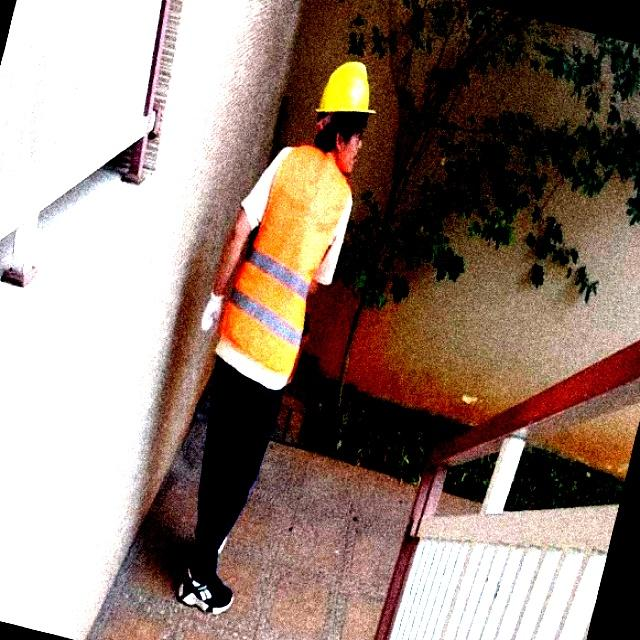Capacete: (316, 61, 374, 113)
Colete: (220, 145, 350, 375)
Pessoa: (177, 61, 373, 613)
